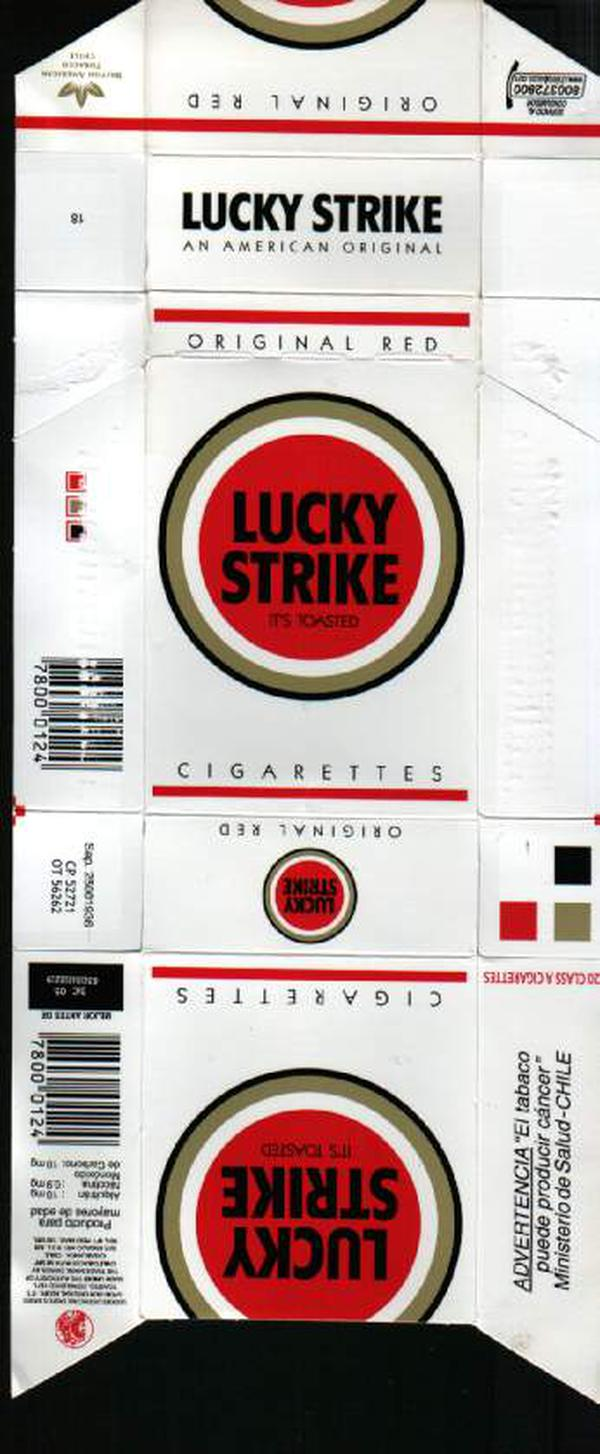lucky_strike_red: (140, 153, 494, 812), (144, 953, 485, 1324)
